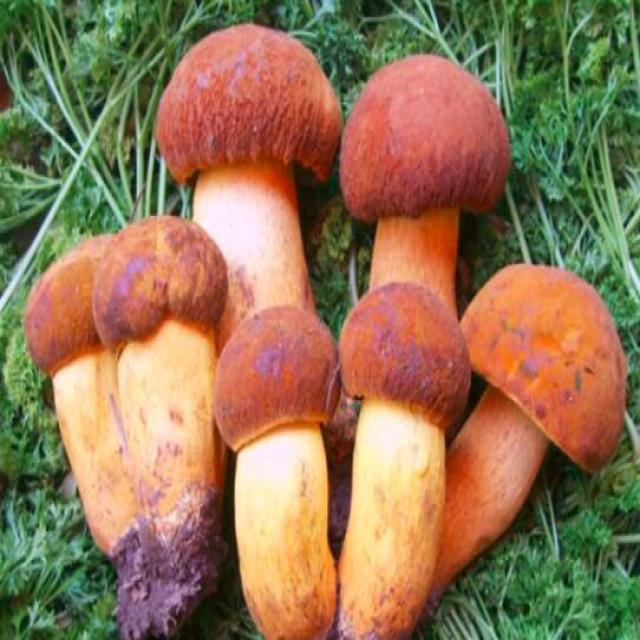Boletus: (28, 219, 226, 597), (428, 261, 628, 614), (157, 27, 338, 319), (340, 284, 468, 639), (340, 56, 509, 319), (212, 302, 337, 640)
